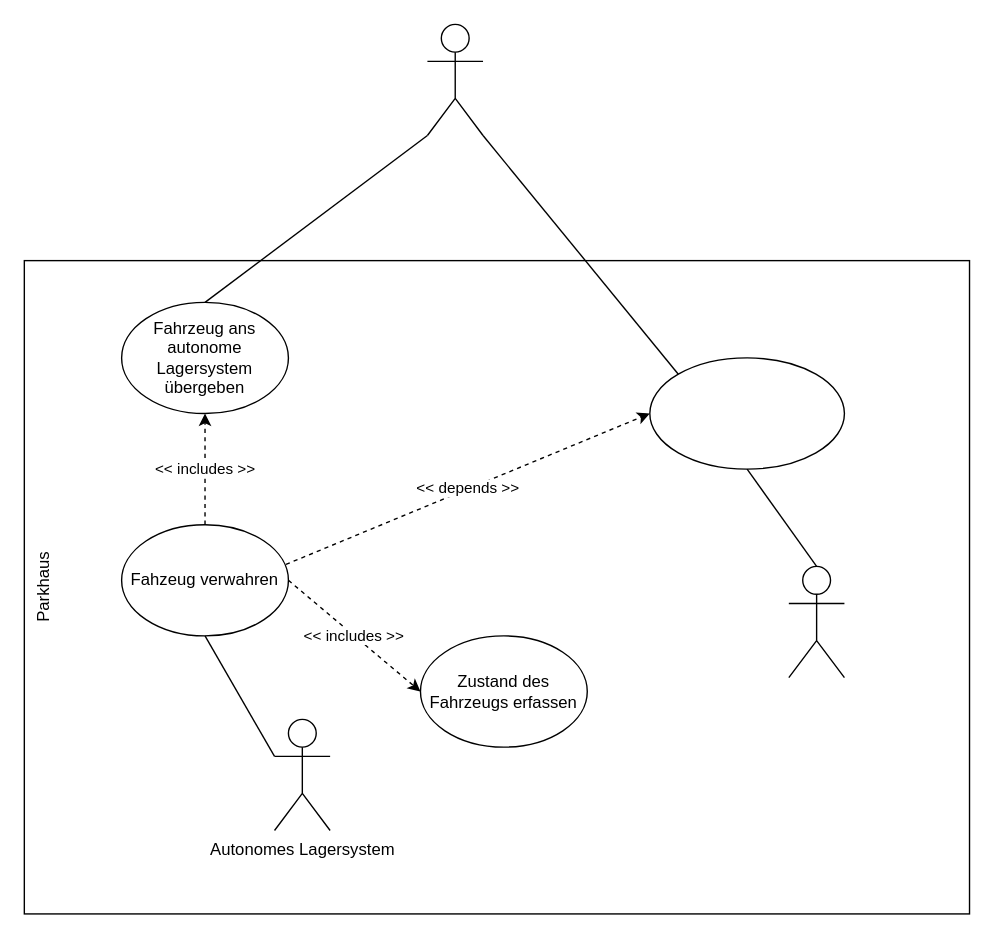
Image size: 994x938. Some labels were removed from this diagram. The shapes that lost their labels are listed below. From the top down, each one's centre as x and y in pixels, then its label:
At point 454,79: "Kunde".
At point 746,413: "Angeben der vorraussichtlichen Parkzeit am Terminal".
At point 815,621: "Terminal".
